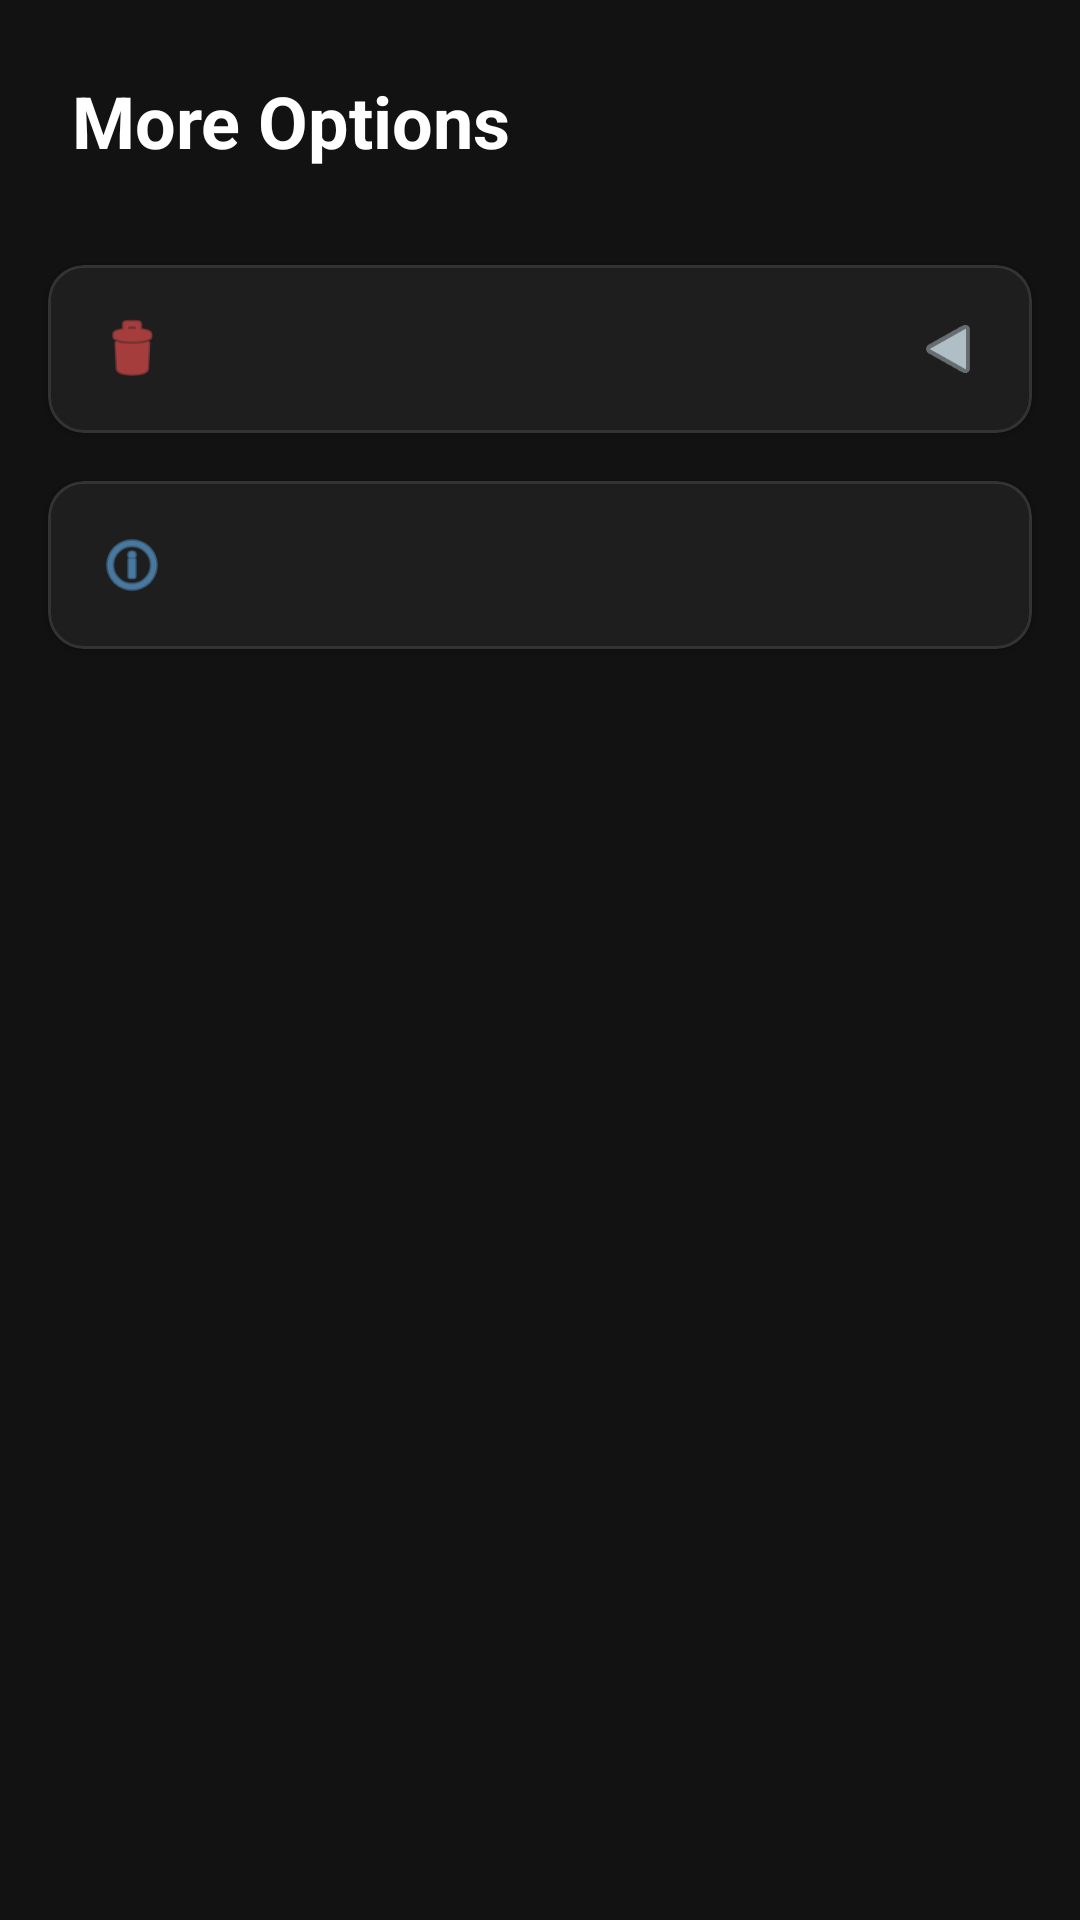

Screen size 1080 × 1920. Icon name, then its center in pixels as (x,y):
delete: (132,348)
info details: (132,565)
